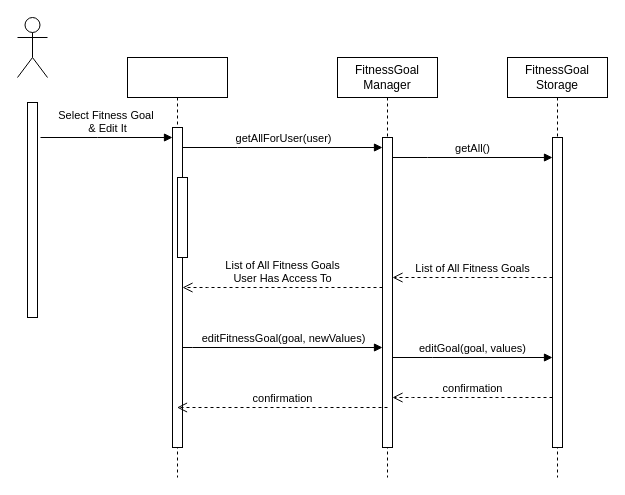
Image size: 625x495. Some labels were removed from this diagram. Each missing label, with the centre of its shape:
"FitnessGoal Window" goes at point 177,267.
"User" goes at point 32,47.
